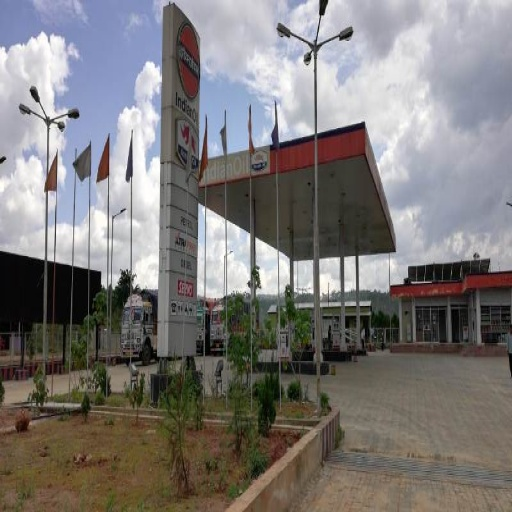roof: (198, 125, 399, 267)
